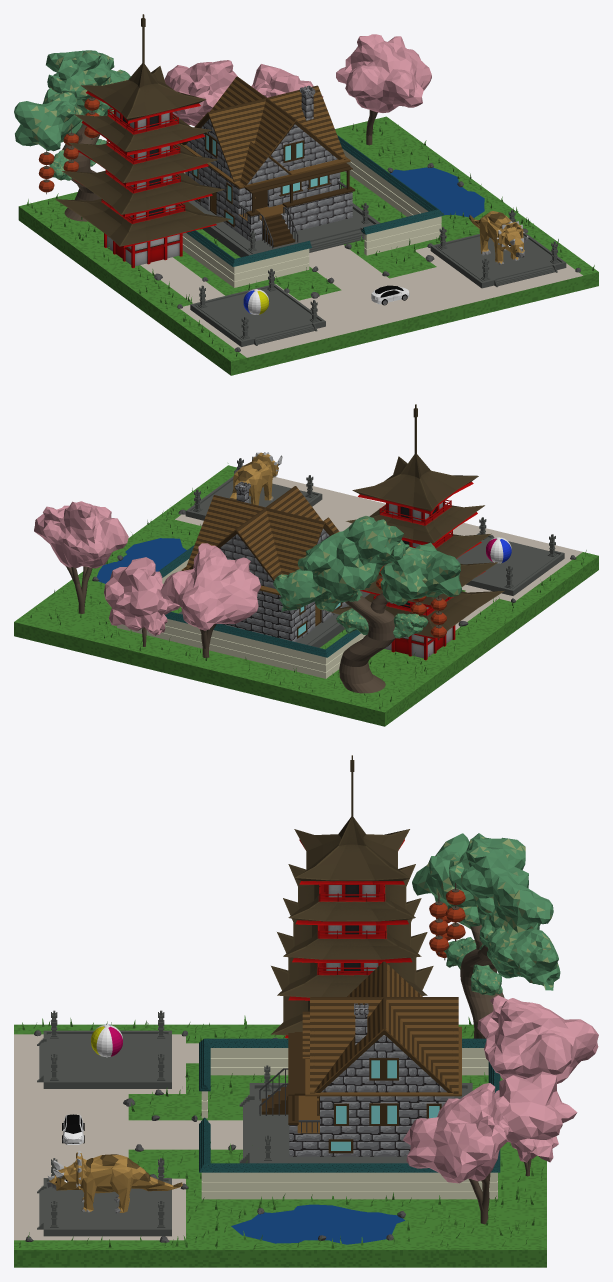
3 renders of one model, top to bottom at view 1: azimuth 30°, elevation 25°; view 2: azimuth 150°, elevation 25°; view 3: azimuth 270°, elevation 25°, orthographic. The views are drawn at different scales.
Parts seen in each view (by area): view 1: Cube.005, Cube.586, ANIMAL_Triceratops, VEHICLES_TESLA, OBJRANDOM_BEACHBALL; view 2: Cube.005, Cube.586, ANIMAL_Triceratops, OBJRANDOM_BEACHBALL; view 3: Cube.005, Cube.586, ANIMAL_Triceratops, OBJRANDOM_BEACHBALL.
Boxes of the visible parts, left/top/right/bottom form: Cube.005: left=14, top=14, right=598, bottom=375; Cube.586: left=179, top=76, right=355, bottom=248; ANIMAL_Triceratops: left=469, top=211, right=528, bottom=264; VEHICLES_TESLA: left=371, top=285, right=409, bottom=305; OBJRANDOM_BEACHBALL: left=243, top=289, right=268, bottom=314; Cube.005: left=14, top=404, right=598, bottom=726; Cube.586: left=181, top=481, right=347, bottom=641; ANIMAL_Triceratops: left=229, top=452, right=282, bottom=505; OBJRANDOM_BEACHBALL: left=486, top=537, right=511, bottom=563; Cube.005: left=14, top=755, right=598, bottom=1267; Cube.586: left=259, top=961, right=461, bottom=1156; ANIMAL_Triceratops: left=46, top=1150, right=182, bottom=1213; OBJRANDOM_BEACHBALL: left=91, top=1024, right=122, bottom=1057.
Bounding box in the file's own units: 4528 × 2690 × 4389.
Materials: 38 (6 with a texture image).
